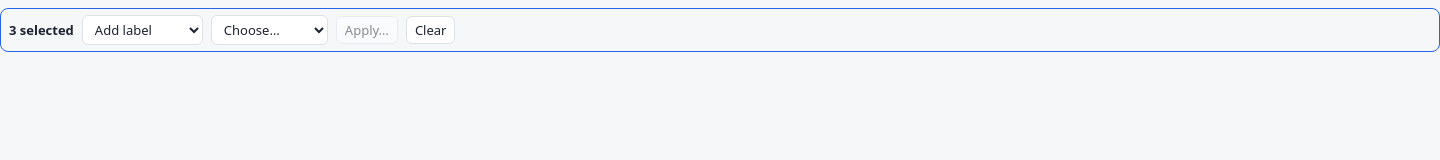
BulkBar › adds a label to the issues that lack it, after showing how many would change and asking to confirm
This screenshot has width=1440, height=160.
expect the button "Apply…" is disabled: met, box [336,16,398,44]
Select "Add label" in the dropdown named "What to change": (142, 30) [82,15,203,45]
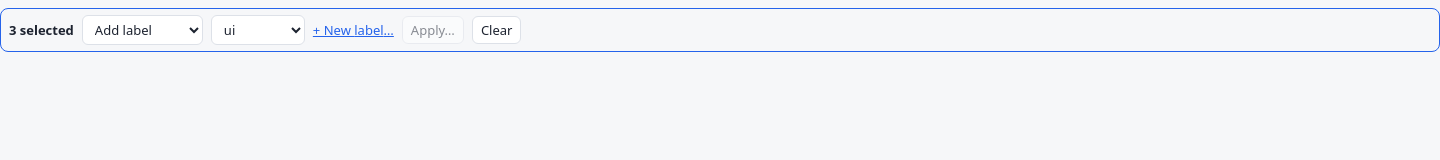
Select "ui" in the dropdown named "Value": (258, 30) [211,15,305,45]
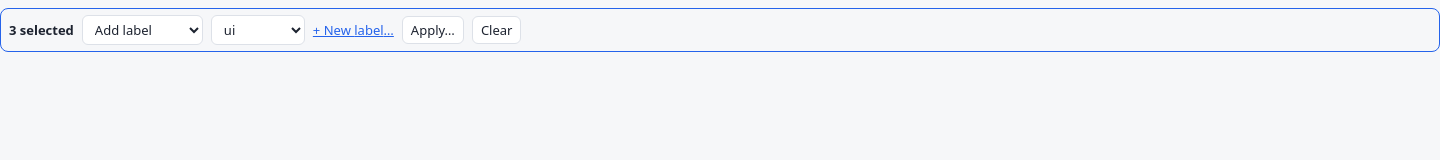
Click the button "Apply…": (433, 30) [402,16,464,44]
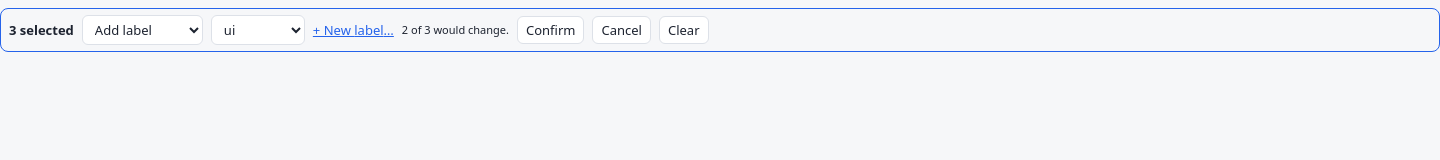
expect the text "2 of 3 would change" is shown: met, box [402,22,509,37]
Click the button "Confirm": (551, 30) [517,16,584,44]
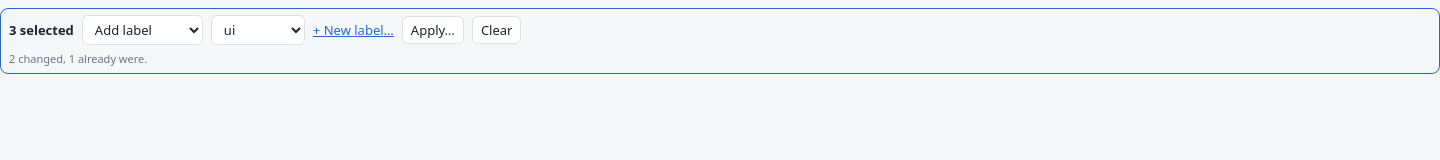
expect the text "2 changed, 1 already were" is shown: met, box [9,51,147,66]
